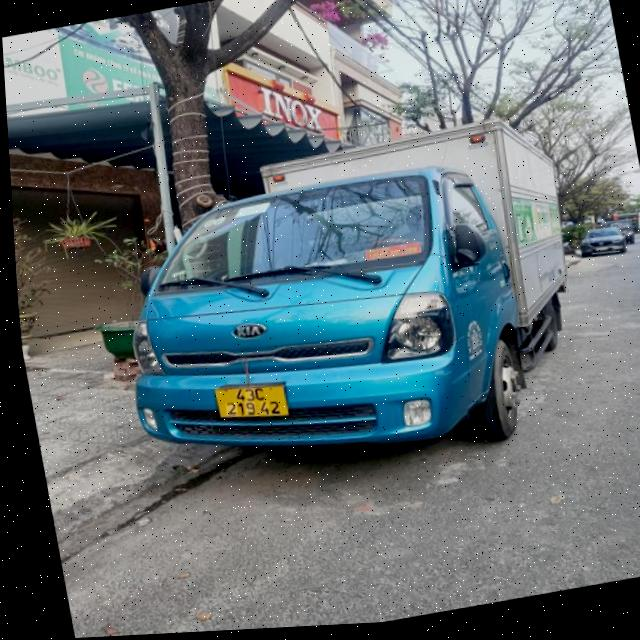car: (93, 126, 603, 508), (577, 216, 632, 262)
plate: (206, 368, 297, 433)
